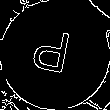P_S: (32, 26, 78, 84)
